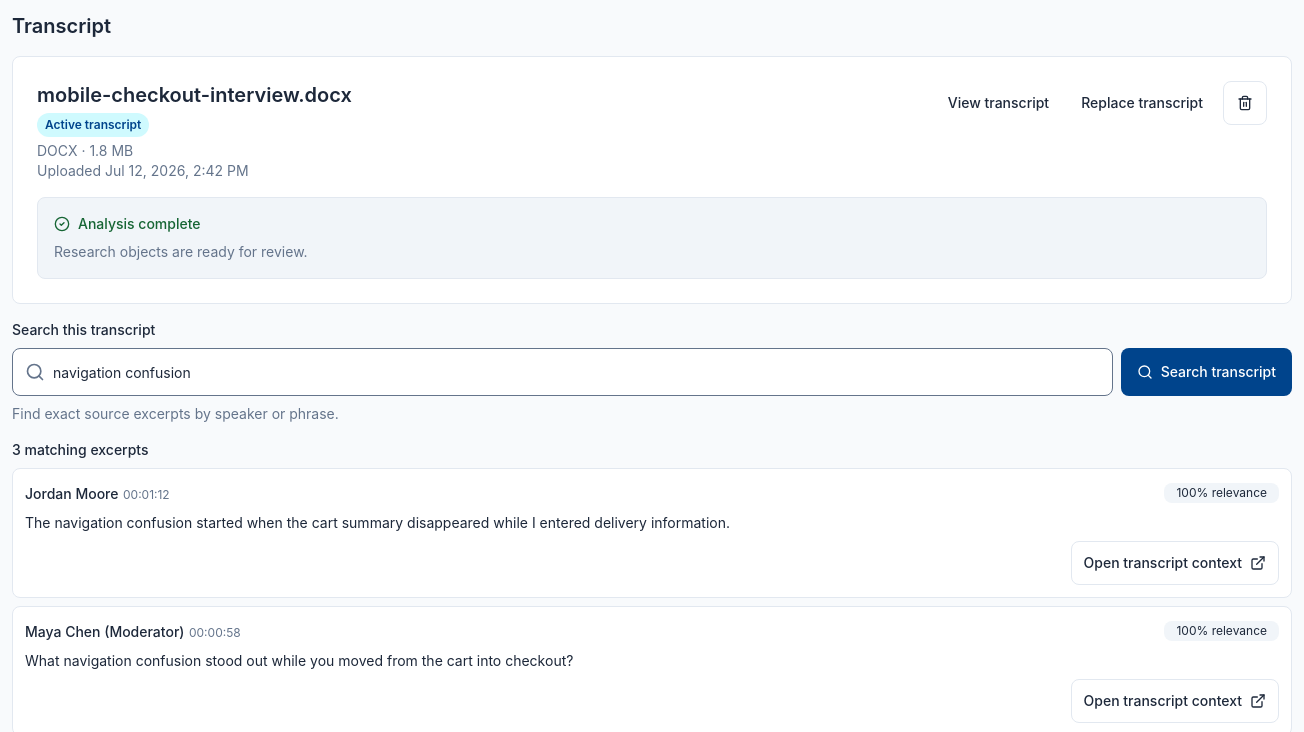
it: Transcript page compositions › clears the query and matching excerpts when the search input is cleared
Check: the text "3 matching excerpts" is shown, box [12, 441, 148, 458]
Clear the search field labelled "Search this transcript" at (578, 372), box [45, 349, 1112, 395]
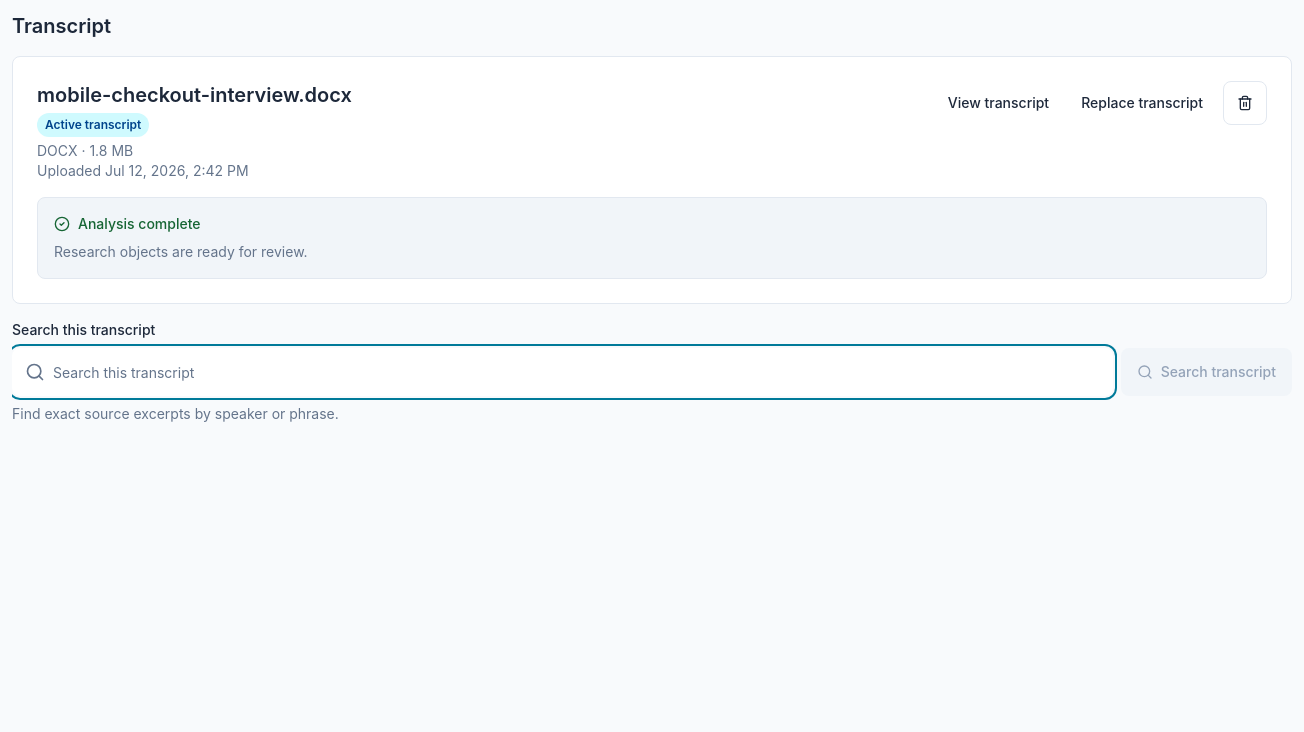
Check: the text "3 matching excerpts" is gone
Check: the link "Open transcript context" is gone
